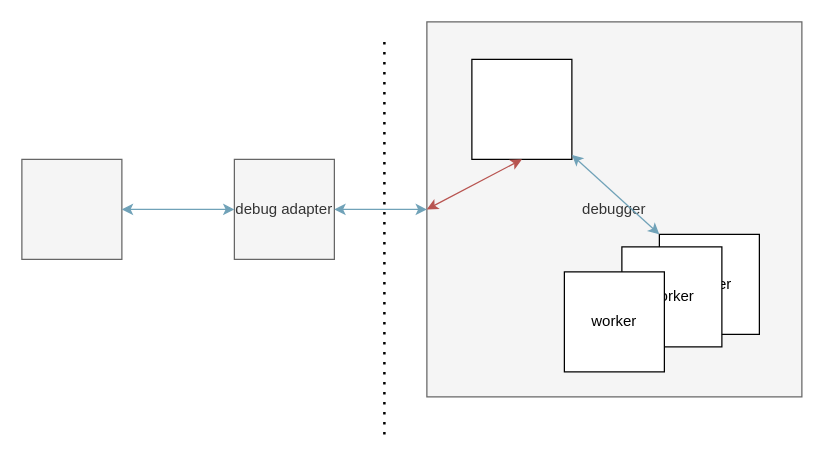
This 824x459 diagram has some shape labels left out. Each missing label, with the centre of its shape:
"master" goes at point 521,108.
"vscode" goes at point 71,208.
